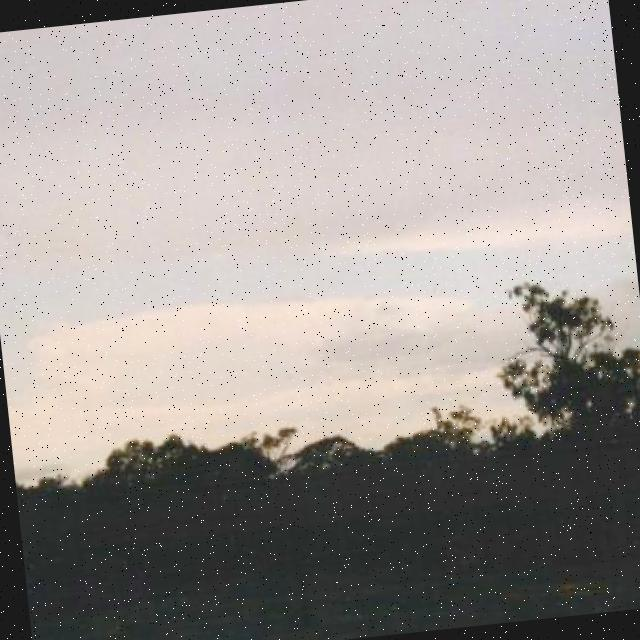Ns: (1, 265, 540, 462)
